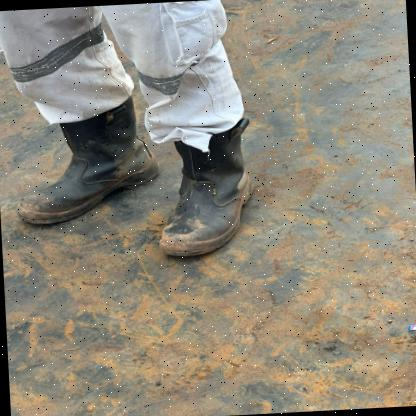bota: (7, 102, 158, 236), (149, 122, 268, 260)
